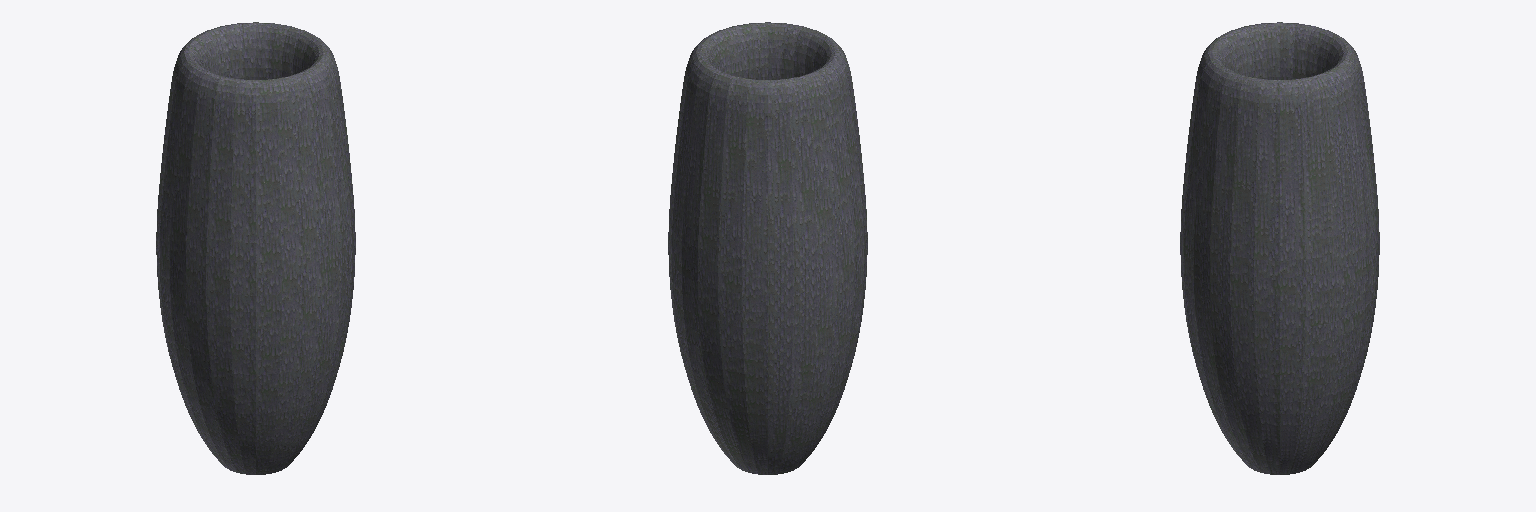
The picture shows the model from 3 angles: view 1: azimuth 30°, elevation 25°; view 2: azimuth 150°, elevation 25°; view 3: azimuth 270°, elevation 25°; orthographic projection.
Visible parts, largest first — view 1: Mesh1_Component_1_1_Model; view 2: Mesh1_Component_1_1_Model; view 3: Mesh1_Component_1_1_Model.
Boxes of the visible parts, <box> form: Mesh1_Component_1_1_Model: <box>156,22,355,474</box>; Mesh1_Component_1_1_Model: <box>668,22,867,474</box>; Mesh1_Component_1_1_Model: <box>1180,22,1379,474</box>.
Size of the model in its own units: 8.81 by 19.93 by 8.81.
1 materials, 1 textured.